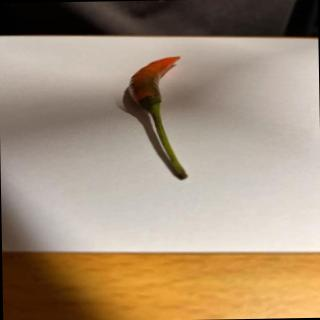Cabai Merah: (128, 57, 188, 182)
